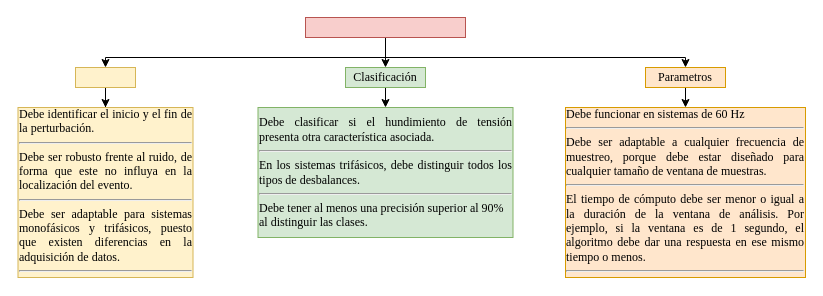
The diagram is 823 pixels wide and 296 high, and some of its shapes have lost their labels. Here are the shapes that lost their labels. From the top down, the box of each, then its label:
(304, 16, 466, 38): Necesidades del Algoritmo
(74, 66, 136, 88): Detección
